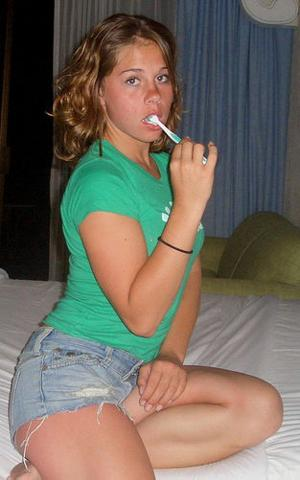person: (8, 15, 287, 471)
